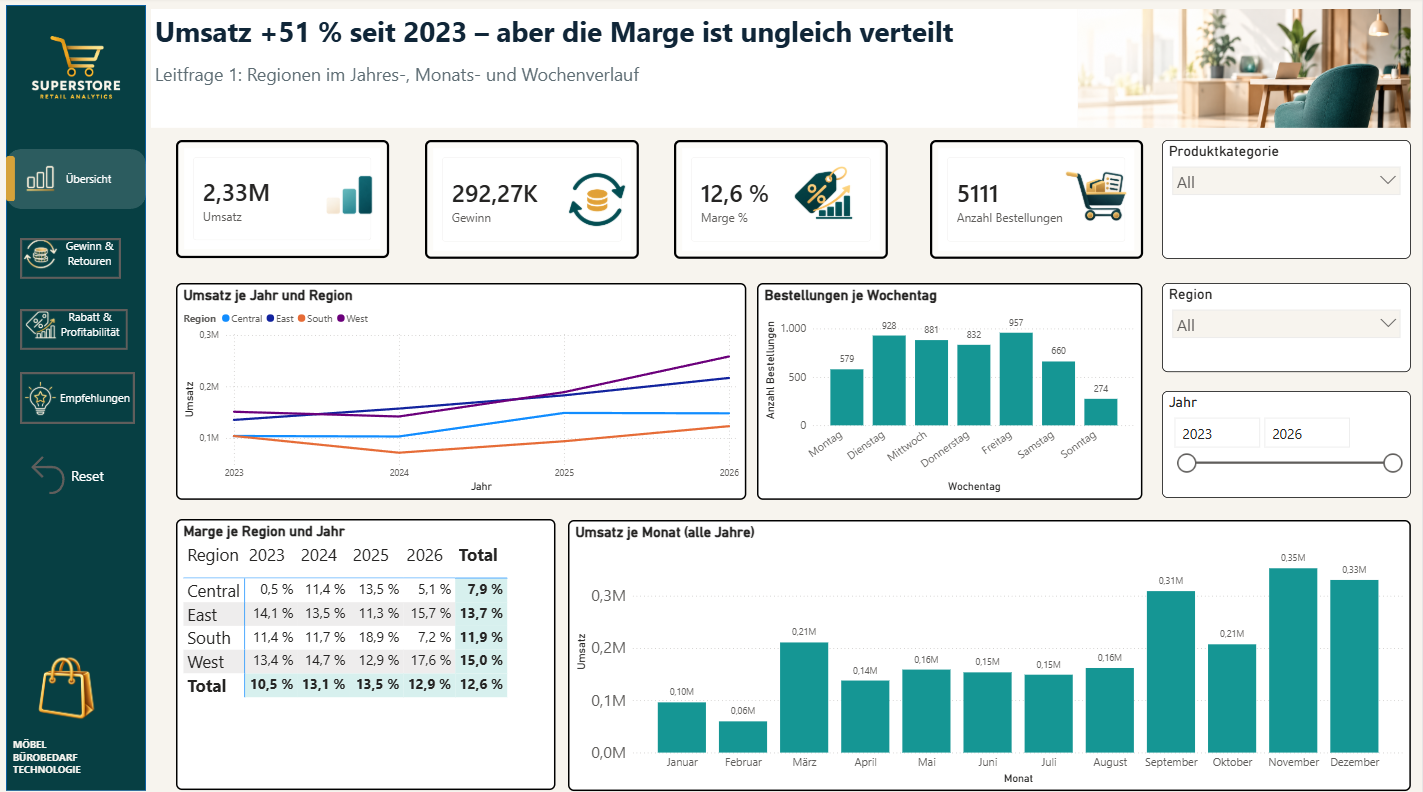

The page's visual inventory and layout, read from the dashboard file:
{"tool":"powerbi","page":{"name":"Übersicht","canvas":[1920,1080],"ordinal":0},"visuals":[{"type":"textbox","box":[208,16,1248,160],"z":0},{"type":"slicer","title":"Jahr","fields":{"Values":["Dim_Date.Jahr"]},"box":[1568.8,530.6,335.3,144.1],"z":1000},{"type":"slicer","title":"Region","fields":{"Values":["Dim_Region.Region"]},"box":[1568.8,385.1,335.3,119.9],"z":2000},{"type":"slicer","title":"Produktkategorie","fields":{"Values":["Dim_Produkt.First(Category)"]},"box":[1569,192.3,335,160.3],"z":3000},{"type":"lineChart","title":"Umsatz je Jahr und Region","fields":{"Category":["Dim_Date.Jahr","Dim_Date.Monat","Dim_Date.Wochentag"],"Series":["Dim_Region.Region"],"Y":["_Kennzahlen1.Umsatz"]},"box":[240.4,384.6,767.7,291.7],"z":4000},{"type":"pivotTable","title":"Marge je Region und Jahr","fields":{"Columns":["Dim_Date.Jahr"],"Rows":["Dim_Region.Region"],"Values":["_Kennzahlen1.Marge %"]},"box":[240.4,703.6,511.3,365.4],"z":5000},{"type":"clusteredColumnChart","title":"Umsatz je Monat (alle Jahre)","fields":{"Category":["Dim_Date.Monat"],"Y":["_Kennzahlen1.Umsatz"]},"box":[768.8,704,1135.3,365.2],"z":6000},{"type":"shape","box":[12.1,10.8,188.5,1058.5],"z":7000},{"type":"clusteredColumnChart","title":"Bestellungen je Wochentag","fields":{"Category":["Dim_Date.Wochentag"],"Y":["_Kennzahlen1.Anzahl Bestellungen"]},"box":[1024.1,384.6,519.3,291.7],"z":8000},{"type":"image","box":[1456,16,448,160],"z":9000},{"type":"image","box":[12.1,10.8,188.5,162.9],"z":10000},{"type":"shape","box":[12.1,204.7,188.5,80.8],"z":11000},{"type":"image","box":[31,208.7,55.2,70],"z":12000},{"type":"shape","box":[12.1,214.1,12.1,61],"z":13000},{"type":"shape","box":[31,304.3,160.2,80.8],"z":14000},{"type":"image","box":[31,309.7,55,70],"z":15000},{"type":"shape","box":[12.1,400,188.5,80.8],"z":16000},{"type":"image","box":[31,405.3,55,70],"z":17000},{"type":"shape","box":[12.1,499.6,188.5,80.8],"z":18000},{"type":"image","box":[31,505,55,70],"z":19000},{"type":"image","box":[18.9,879.4,148.1,101],"z":20000},{"type":"textbox","box":[16,992,192,80],"z":21000},{"type":"cardVisual","fields":{"Data":["Kennzahlen.Umsatz"]},"box":[241,192.6,286.8,158.9],"z":22000},{"type":"cardVisual","fields":{"Data":["Kennzahlen.Gewinn"]},"box":[576,192,288,160],"z":23000},{"type":"cardVisual","fields":{"Data":["Kennzahlen.Marge %"]},"box":[912,192,288,160],"z":24000},{"type":"cardVisual","fields":{"Data":["Kennzahlen.Anzahl Bestellungen"]},"box":[1256.5,192.3,286.9,160.3],"z":25000},{"type":"image","box":[418.3,208.3,110.6,112.2],"z":26000},{"type":"image","box":[751.7,216.4,112.2,112.2],"z":27000},{"type":"image","box":[1024,208,176,112],"z":28000},{"type":"image","box":[1424.8,208.3,110.6,112.2],"z":29000},{"type":"actionButton","box":[31,324.5,136,55.2],"z":29001},{"type":"actionButton","box":[31,420.1,145.4,55.2],"z":29002},{"type":"actionButton","box":[31,505,154.9,70],"z":29003},{"type":"actionButton","box":[35.8,610.9,149.7,64.9],"z":29004}]}

Visuals, with their boxes in screenshot pixels (x1, y1, x2, y2), scaled from the page's 1920x1080 canvas onto the 1423x792 screenshot:
textbox: crop(154, 12, 1079, 129)
"Jahr" slicer: crop(1163, 389, 1411, 495)
"Region" slicer: crop(1163, 282, 1411, 370)
"Produktkategorie" slicer: crop(1163, 141, 1411, 259)
"Umsatz je Jahr und Region" lineChart: crop(178, 282, 747, 496)
"Marge je Region und Jahr" pivotTable: crop(178, 516, 557, 784)
"Umsatz je Monat (alle Jahre)" clusteredColumnChart: crop(570, 516, 1411, 784)
shape: crop(9, 8, 149, 784)
"Bestellungen je Wochentag" clusteredColumnChart: crop(759, 282, 1144, 496)
image: crop(1079, 12, 1411, 129)
image: crop(9, 8, 149, 127)
shape: crop(9, 150, 149, 209)
image: crop(23, 153, 64, 204)
shape: crop(9, 157, 18, 202)
shape: crop(23, 223, 142, 282)
image: crop(23, 227, 64, 278)
shape: crop(9, 293, 149, 353)
image: crop(23, 297, 64, 349)
shape: crop(9, 366, 149, 426)
image: crop(23, 370, 64, 422)
image: crop(14, 645, 124, 719)
textbox: crop(12, 727, 154, 786)
cardVisual - Kennzahlen.Umsatz: crop(179, 141, 391, 258)
cardVisual - Kennzahlen.Gewinn: crop(427, 141, 640, 258)
cardVisual - Kennzahlen.Marge %: crop(676, 141, 889, 258)
cardVisual - Kennzahlen.Anzahl Bestellungen: crop(931, 141, 1144, 259)
image: crop(310, 153, 392, 235)
image: crop(557, 159, 640, 241)
image: crop(759, 153, 889, 235)
image: crop(1056, 153, 1138, 235)
actionButton: crop(23, 238, 124, 278)
actionButton: crop(23, 308, 131, 349)
actionButton: crop(23, 370, 138, 422)
actionButton: crop(27, 448, 137, 496)
